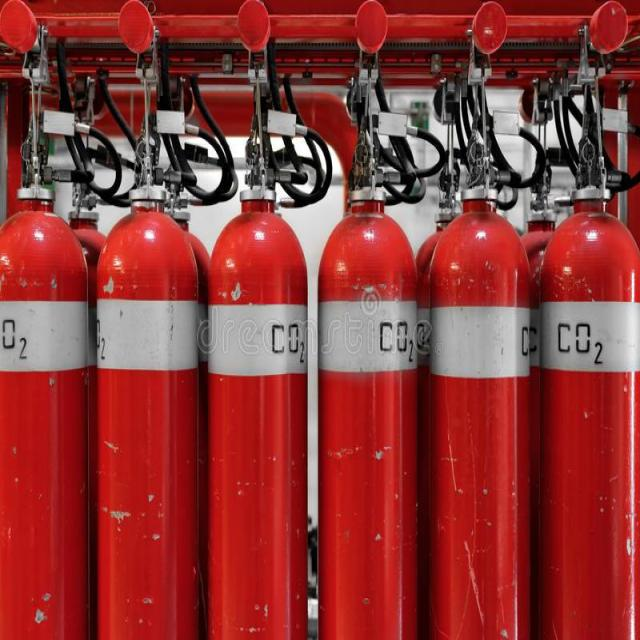fire_extinguisher: (86, 110, 210, 639), (314, 94, 425, 638), (201, 105, 312, 639), (428, 134, 536, 639), (0, 105, 96, 639), (533, 182, 639, 639)
